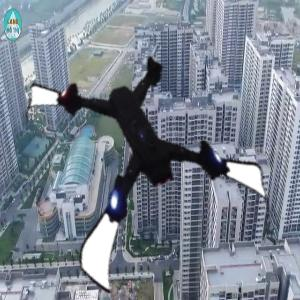drone: (39, 46, 271, 278)
